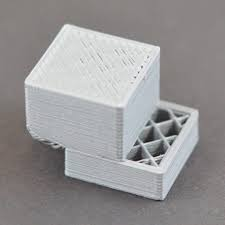fail: (9, 102, 209, 171)
